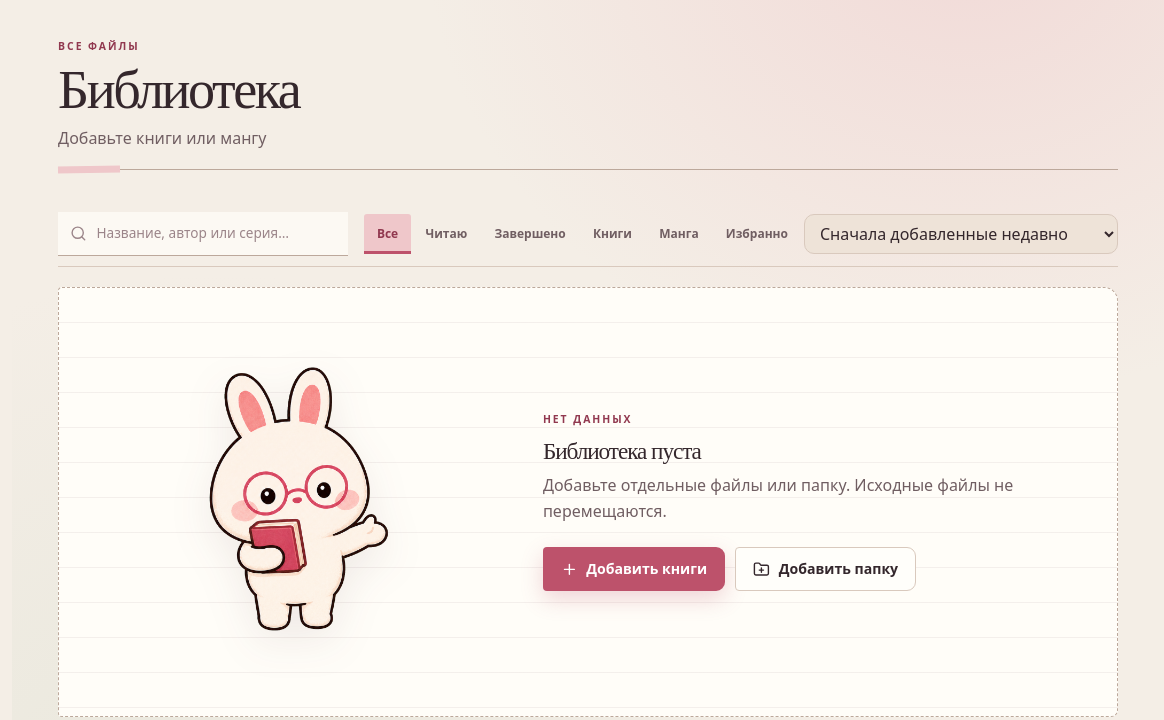
Scenario: library page › stores a selected kind in the route instead of component-only state
Step 1. Click the button "Манга" → (679, 234), box [646,214,711,254]
(page scrolled)
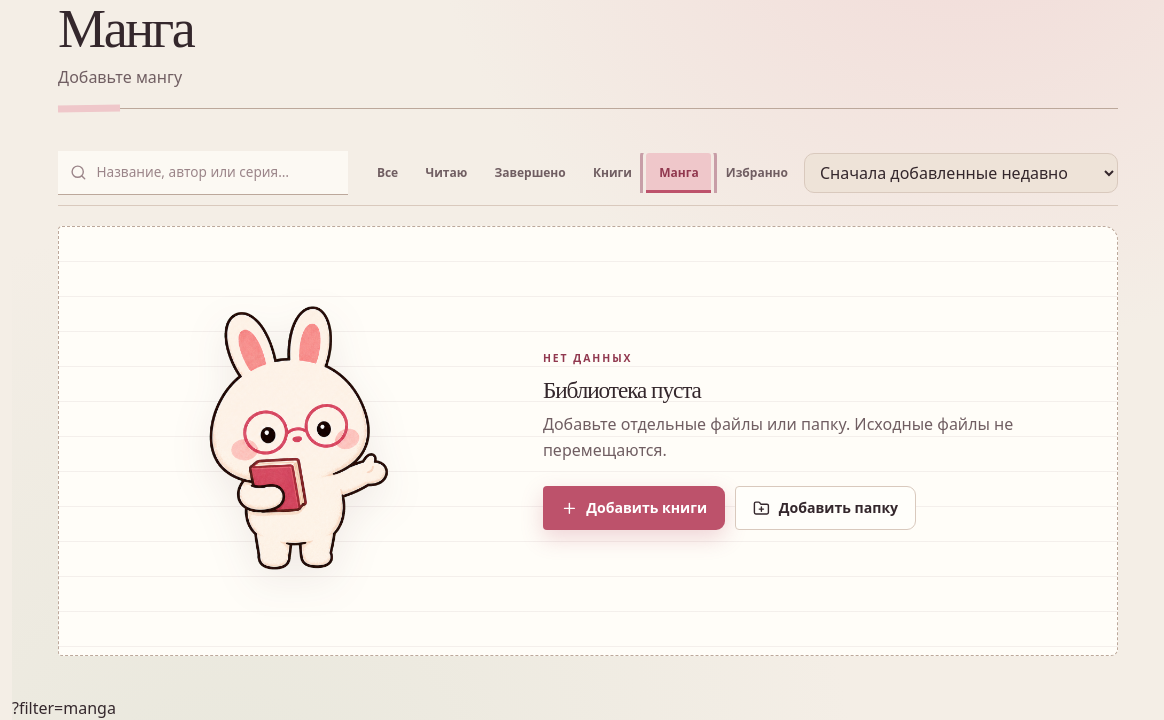
Expected: the text named "Текущий маршрут" reads "?filter=manga", [12,697,116,719]
